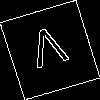V: (25, 24, 73, 79)
